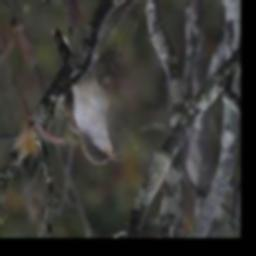Cuckoo: (50, 26, 123, 165)
